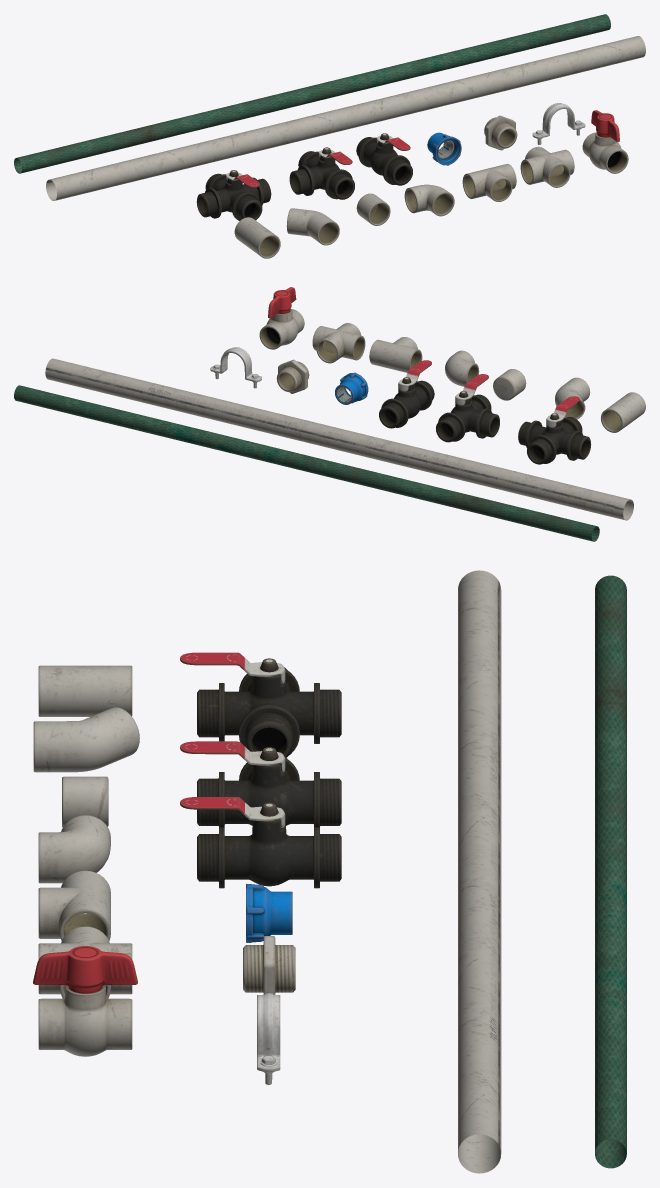
File: modular_pipes_plastic_01_1k.fbx
The picture shows the model from 3 angles, top to bottom: view 1: azimuth 30°, elevation 25°; view 2: azimuth 150°, elevation 25°; view 3: azimuth 270°, elevation 25°; orthographic projection. The views are drawn at different scales.
Visible parts, largest first — view 1: straight_pvc_pipe_01, garden_pipe, garden_pipe_connector_01, garden_pipe_connector_02, garden_pipe_connector_03, pvc_ball_valve, pvc_connector_01, pvc_connector_02, pvc_connector_05, pvc_connector_03, pvc_connector_06, pvc_connector_07 (+3 smaller); view 2: straight_pvc_pipe_01, garden_pipe, garden_pipe_connector_01, garden_pipe_connector_02, garden_pipe_connector_03, pvc_ball_valve, pvc_connector_01, pvc_connector_02, pvc_connector_06, pvc_connector_03, pvc_connector_07, pvc_connector_05 (+3 smaller); view 3: straight_pvc_pipe_01, garden_pipe, garden_pipe_connector_01, pvc_ball_valve, garden_pipe_connector_03, garden_pipe_connector_02, pvc_connector_05, pvc_connector_06, pvc_connector_02, pvc_connector_03, pvc_connector_07, garden_pipe_connector (+3 smaller).
Boxes of the visible parts, <box> form: straight_pvc_pipe_01: <box>46,36,645,200</box>; garden_pipe: <box>14,14,610,173</box>; garden_pipe_connector_01: <box>196,170,271,220</box>; garden_pipe_connector_02: <box>289,147,354,199</box>; garden_pipe_connector_03: <box>356,133,412,185</box>; pvc_ball_valve: <box>582,110,628,173</box>; pvc_connector_01: <box>520,146,574,187</box>; pvc_connector_02: <box>462,164,516,201</box>; pvc_connector_05: <box>286,208,339,245</box>; pvc_connector_03: <box>404,184,454,216</box>; pvc_connector_06: <box>234,217,280,258</box>; pvc_connector_07: <box>484,115,517,150</box>; straight_pvc_pipe_01: <box>45,358,633,520</box>; garden_pipe: <box>14,385,599,541</box>; garden_pipe_connector_01: <box>518,396,591,464</box>; garden_pipe_connector_02: <box>436,374,499,442</box>; garden_pipe_connector_03: <box>379,360,434,428</box>; pvc_ball_valve: <box>259,287,304,349</box>; pvc_connector_01: <box>312,323,365,363</box>; pvc_connector_02: <box>369,337,422,372</box>; pvc_connector_06: <box>600,392,645,432</box>; pvc_connector_03: <box>445,350,479,386</box>; pvc_connector_07: <box>276,359,309,393</box>; pvc_connector_05: <box>555,377,590,419</box>; straight_pvc_pipe_01: <box>458,570,501,1173</box>; garden_pipe: <box>595,575,626,1168</box>; garden_pipe_connector_01: <box>180,652,341,757</box>; pvc_ball_valve: <box>33,946,137,1056</box>; garden_pipe_connector_03: <box>180,797,341,888</box>; garden_pipe_connector_02: <box>180,741,341,827</box>; pvc_connector_05: <box>33,707,139,772</box>; pvc_connector_06: <box>38,665,132,716</box>; pvc_connector_02: <box>38,870,110,940</box>; pvc_connector_03: <box>38,815,110,883</box>; pvc_connector_07: <box>243,936,295,994</box>; garden_pipe_connector: <box>246,883,292,942</box>.
Bounding box in the file's own units: 81.25 × 7.57 × 36.18.
1 material, 1 textured.
